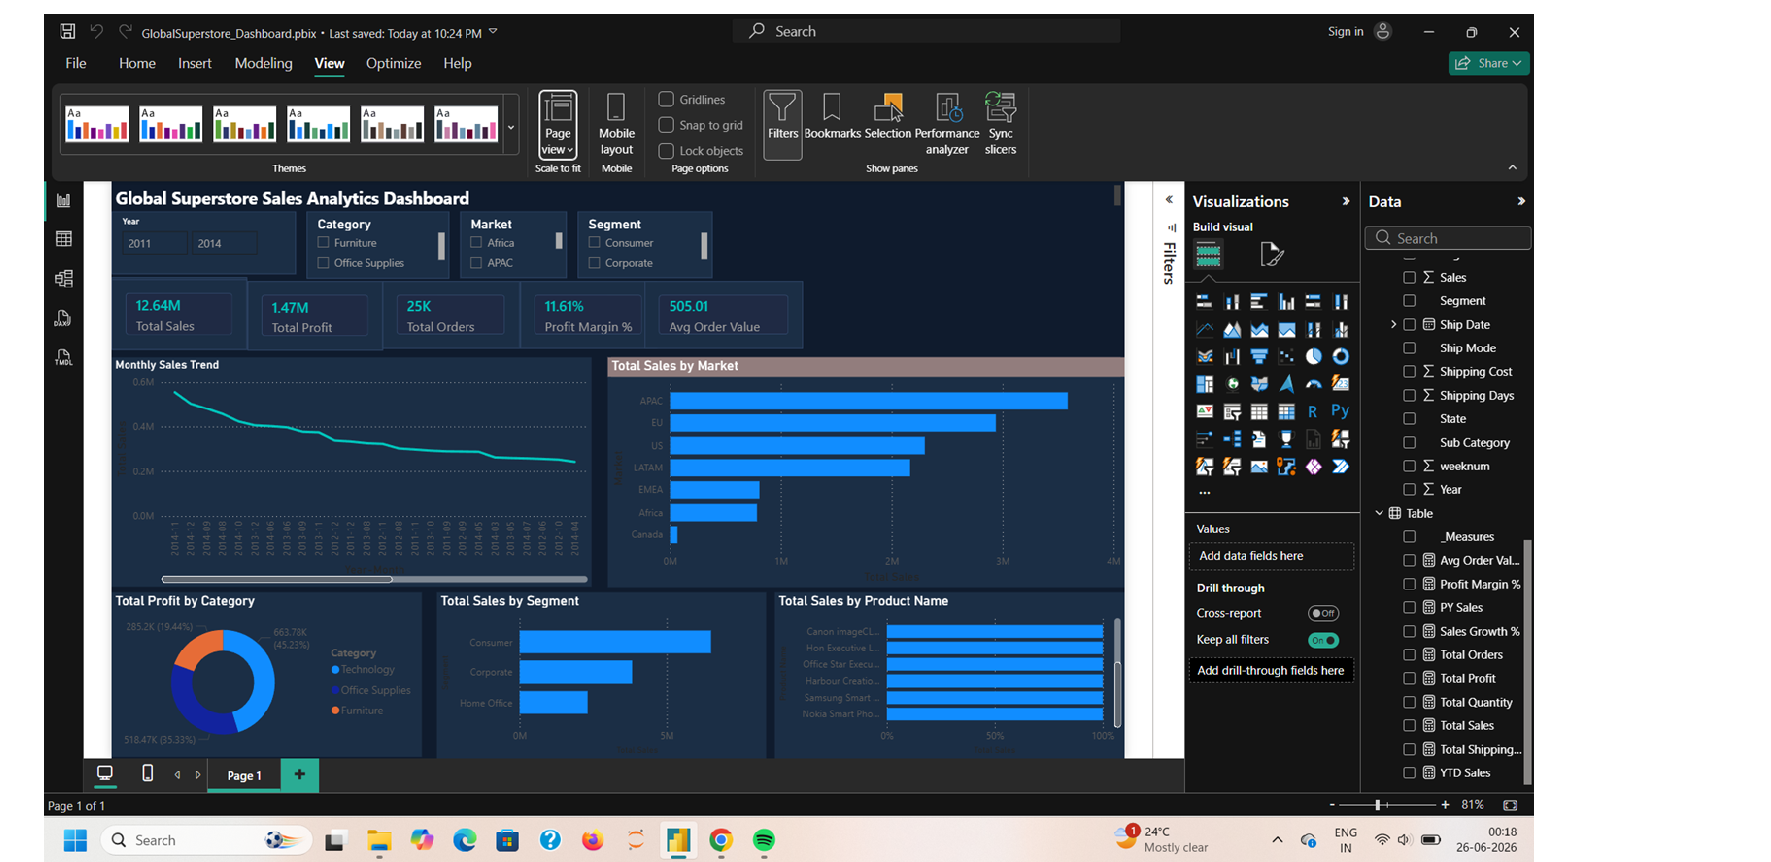

What the dashboard file says about the page in this screenshot:
{"tool":"powerbi","page":{"name":"Page 1","canvas":[1280,720],"ordinal":0},"visuals":[{"type":"cardVisual","fields":{"Data":["Table.Total Sales"]},"box":[0,119,171,91],"z":0},{"type":"cardVisual","fields":{"Data":["Table.Total Profit"]},"box":[171.2,123.8,171.2,87.5],"z":1000},{"type":"cardVisual","fields":{"Data":["Table.Total Orders"]},"box":[342.5,123.8,173.8,85],"z":2000},{"type":"cardVisual","fields":{"Data":["Table.Profit Margin %"]},"box":[516.2,123.8,172.5,85],"z":3000},{"type":"cardVisual","fields":{"Data":["Table.Avg Order Value"]},"box":[673.8,123.8,200,85],"z":4000},{"type":"lineChart","title":"Monthly Sales Trend","fields":{"Category":["DateTable.Year-Month"],"Y":["Table.Total Sales"]},"box":[0,220,606.7,285.6],"z":5000},{"type":"clusteredBarChart","fields":{"Category":["superstore.Market"],"Y":["Table.Total Sales"]},"box":[626.7,220,653.3,286.7],"z":6000},{"type":"donutChart","fields":{"Category":["superstore.Category"],"Y":["Table.Total Profit"]},"box":[0,513,392,205],"z":7000},{"type":"clusteredBarChart","fields":{"Category":["superstore.Segment"],"Y":["Table.Total Sales"]},"box":[411,513,416,207],"z":8000},{"type":"slicer","fields":{"Values":["DateTable.Year"]},"box":[0,36.2,232.5,78.8],"z":9000},{"type":"slicer","fields":{"Values":["superstore.Category"]},"box":[246.5,36.2,180,83.8],"z":10000},{"type":"slicer","fields":{"Values":["superstore.Market"]},"box":[440.5,36.2,134.4,83.3],"z":11000},{"type":"slicer","fields":{"Values":["superstore.Segment"]},"box":[588.9,36.2,170,83.3],"z":12000},{"type":"textbox","box":[0,0,1280,36.7],"z":13000},{"type":"cardVisual","fields":{"Data":["Table.Total Sales"]},"box":[0,121.2,171.2,88.8],"z":14000},{"type":"hundredPercentStackedBarChart","fields":{"Category":["superstore.Product Name"],"Y":["Table.Total Sales"]},"box":[837.5,512.5,442.5,207.5],"z":15000}]}

Visuals, with their boxes on the page's 1280x720 design canvas (x1, y1, x2, y2). These are canvas units, not pixel positions in the 1771x862 screenshot, which may show the page scaled, cropped or inside an application window:
cardVisual - Table.Total Sales: [left=0, top=119, right=171, bottom=210]
cardVisual - Table.Total Profit: [left=171, top=124, right=342, bottom=211]
cardVisual - Table.Total Orders: [left=342, top=124, right=516, bottom=209]
cardVisual - Table.Profit Margin %: [left=516, top=124, right=689, bottom=209]
cardVisual - Table.Avg Order Value: [left=674, top=124, right=874, bottom=209]
"Monthly Sales Trend" lineChart: [left=0, top=220, right=607, bottom=506]
clusteredBarChart - superstore.Market x Table.Total Sales: [left=627, top=220, right=1280, bottom=507]
donutChart - superstore.Category x Table.Total Profit: [left=0, top=513, right=392, bottom=718]
clusteredBarChart - superstore.Segment x Table.Total Sales: [left=411, top=513, right=827, bottom=720]
slicer - DateTable.Year: [left=0, top=36, right=232, bottom=115]
slicer - superstore.Category: [left=246, top=36, right=426, bottom=120]
slicer - superstore.Market: [left=440, top=36, right=575, bottom=120]
slicer - superstore.Segment: [left=589, top=36, right=759, bottom=120]
textbox: [left=0, top=0, right=1280, bottom=37]
cardVisual - Table.Total Sales: [left=0, top=121, right=171, bottom=210]
hundredPercentStackedBarChart - superstore.Product Name x Table.Total Sales: [left=838, top=512, right=1280, bottom=720]
